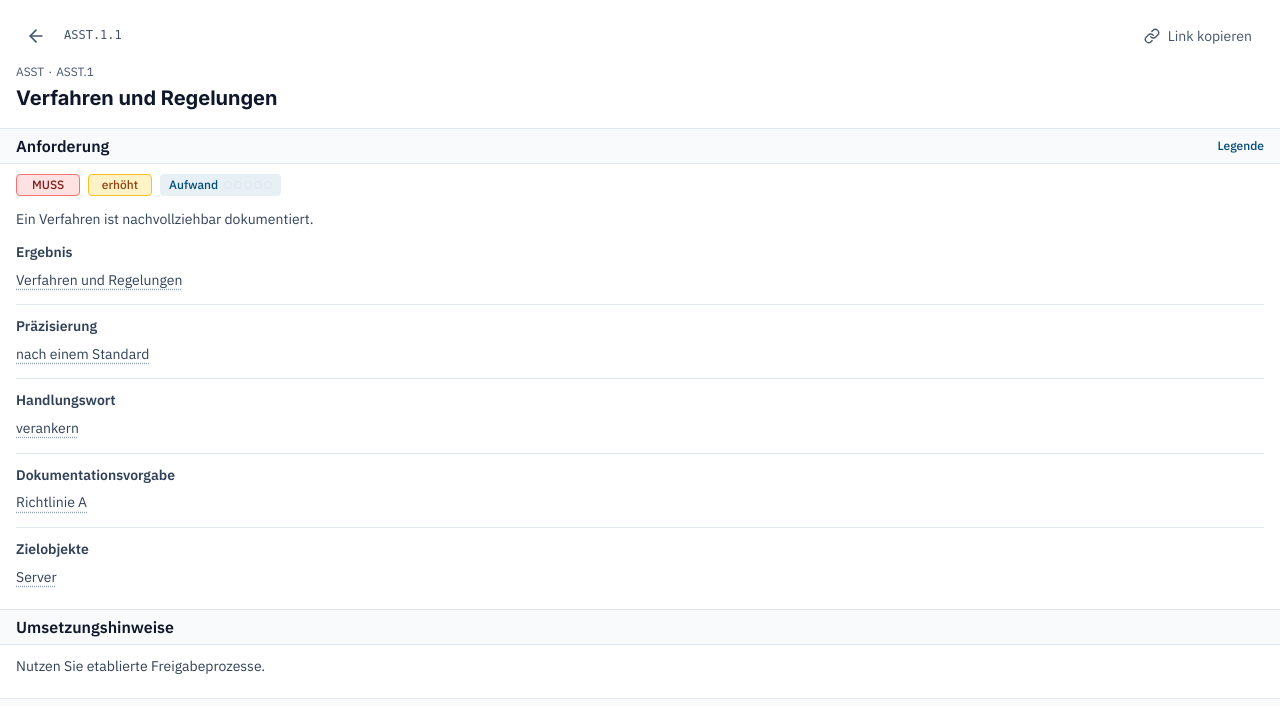
Test: catalog typography › explains criteria in the short-profile legend and links to the vocabulary entry
Step 1. Click the button "Legende" → (1241, 146), box [1218,138,1264,154]
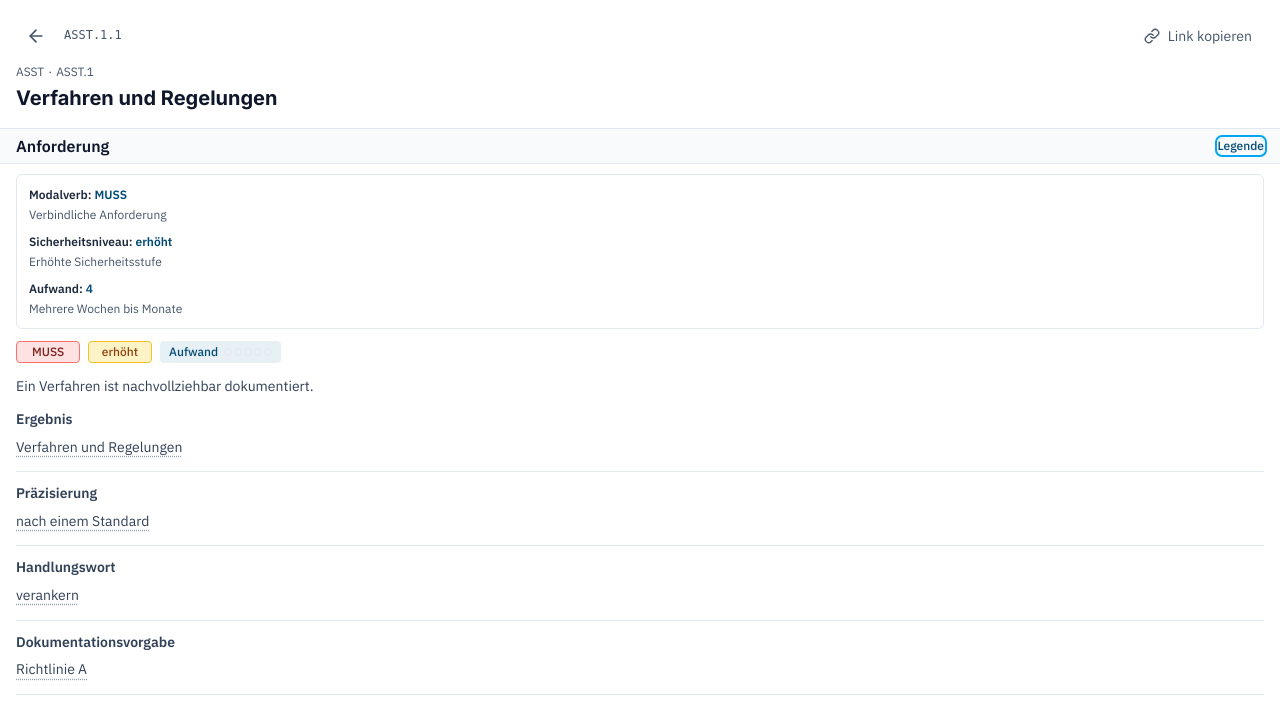
expect the text "Verbindliche Anforderung" is shown: met, box [29,206,166,222]
